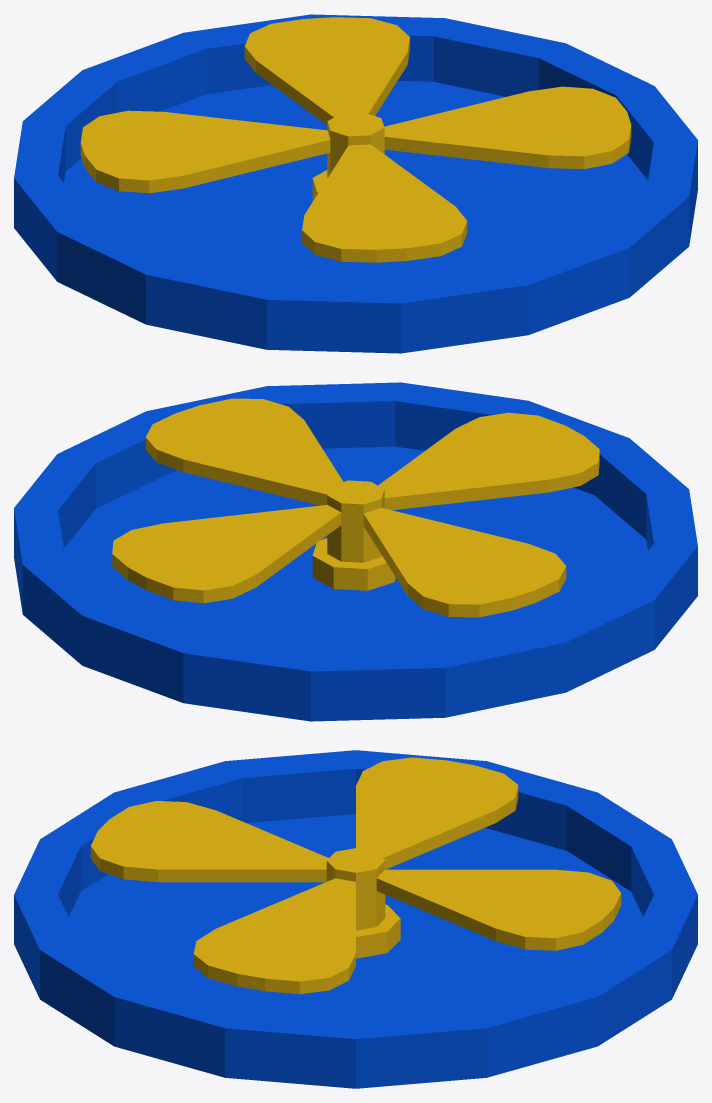
The model's file is fan.fbx.
3 renders of one model, top to bottom at view 1: azimuth 30°, elevation 25°; view 2: azimuth 150°, elevation 25°; view 3: azimuth 270°, elevation 25°, orthographic.
Visible parts, largest first — view 1: base, fan; view 2: base, fan; view 3: base, fan.
Part boxes in pixels (box(x1,y1,x2,y2)): base: box(14, 14, 697, 353); fan: box(80, 17, 631, 262); base: box(14, 382, 697, 721); fan: box(112, 398, 599, 617); base: box(14, 750, 697, 1088); fan: box(90, 757, 621, 994).
Bounding box in the file's own units: 100 × 13.52 × 100.
